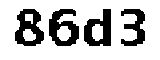3: (118, 3, 149, 52)
6: (48, 7, 80, 50)
8: (13, 9, 45, 50)
d: (82, 5, 115, 51)
